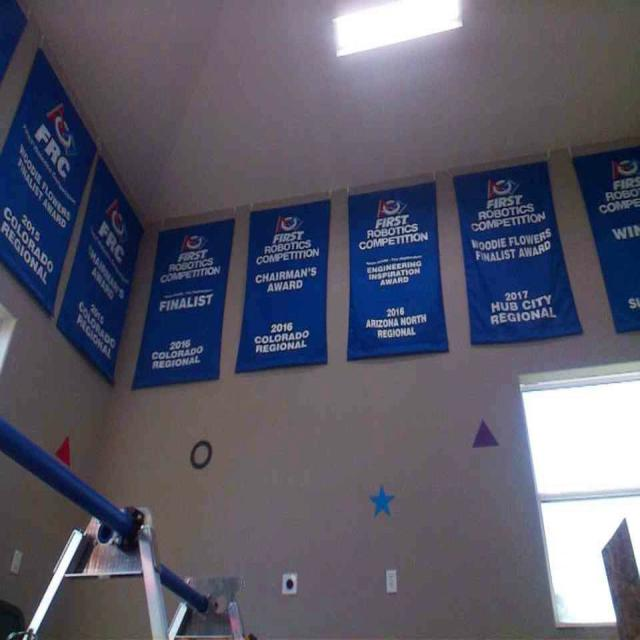ring_black: (189, 439, 212, 469)
star_blue: (368, 483, 395, 518)
triangle_purple: (471, 417, 500, 448)
triangle_red: (53, 434, 71, 466)
